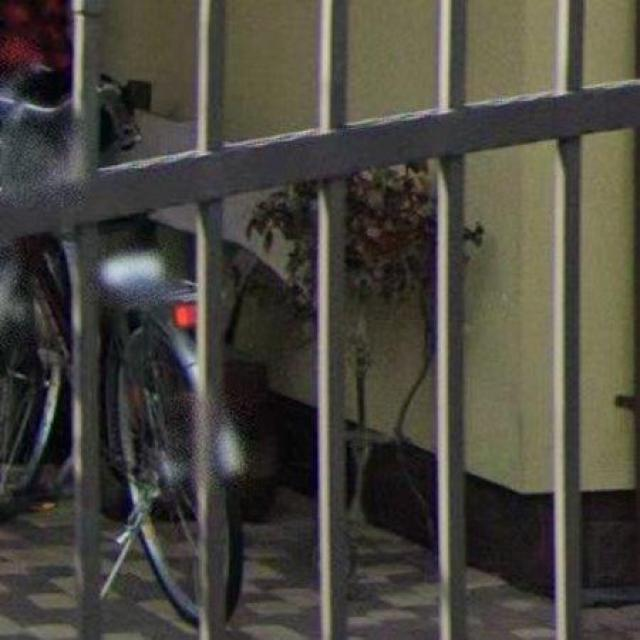bicycle: (101, 252, 201, 624), (1, 239, 69, 517), (229, 489, 245, 613)
